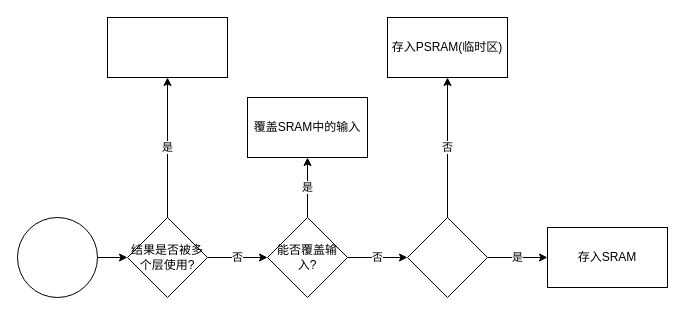
This 685x315 diagram has some shape labels left out. The shapes that lost their labels are listed below. From the top down, each one's centre as x and y in pixels, then its label:
At (167,47): "输出存入PSRAM(持久区)".
At (447,257): "SRAM是否足够存入输出?".
